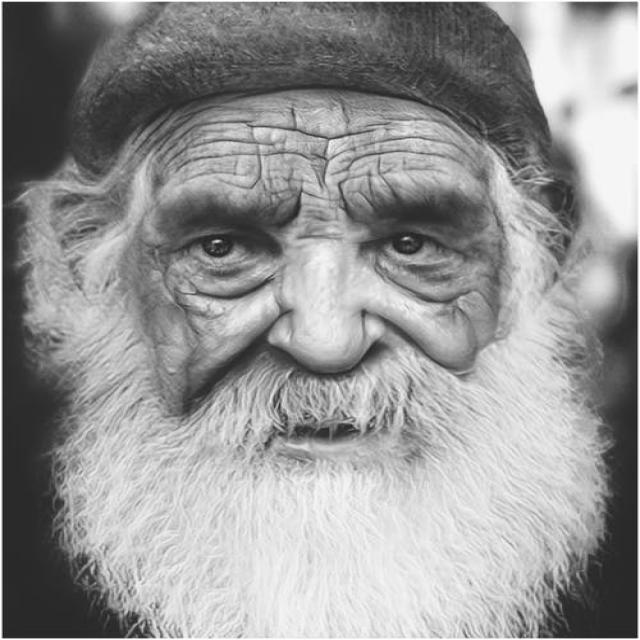Wrinkles: (334, 149, 445, 217), (331, 136, 478, 164), (217, 125, 261, 188), (139, 114, 196, 162), (247, 107, 329, 138), (134, 107, 180, 152), (173, 153, 256, 173), (178, 120, 256, 137), (164, 136, 201, 171), (378, 158, 403, 204), (281, 178, 304, 228), (172, 106, 221, 123), (351, 170, 377, 202), (179, 170, 245, 182), (315, 152, 331, 199), (191, 139, 274, 146), (266, 151, 314, 162), (331, 129, 375, 140), (359, 190, 378, 211), (313, 164, 324, 192), (366, 121, 390, 126), (324, 141, 328, 154)
